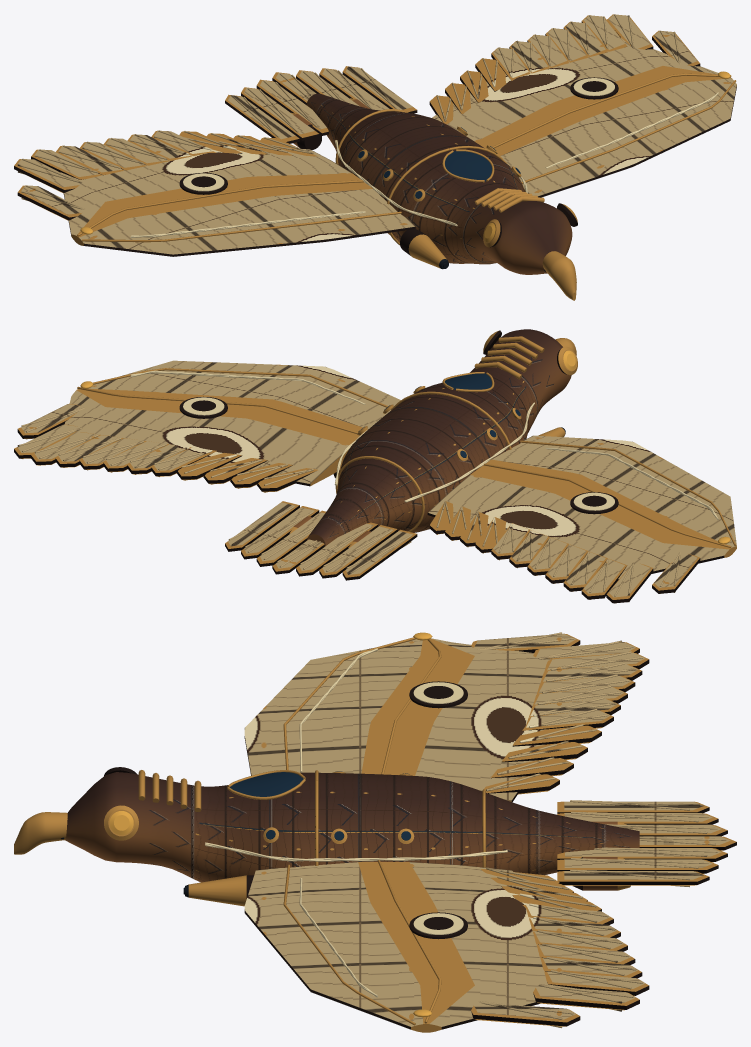
The picture shows the model from 3 angles, top to bottom: view 1: azimuth 30°, elevation 25°; view 2: azimuth 150°, elevation 25°; view 3: azimuth 270°, elevation 25°; orthographic projection. The views are drawn at different scales.
Visible parts, largest first — view 1: golden_eagle_hull; view 2: golden_eagle_hull; view 3: golden_eagle_hull.
Boxes of the visible parts, x1,y1,x2,y2 form: golden_eagle_hull: (14, 14, 736, 300); golden_eagle_hull: (14, 329, 736, 603); golden_eagle_hull: (14, 632, 736, 1032).
Size of the model in its own units: 84 by 13.33 by 66.07.
Materials: 1 (1 with a texture image).
